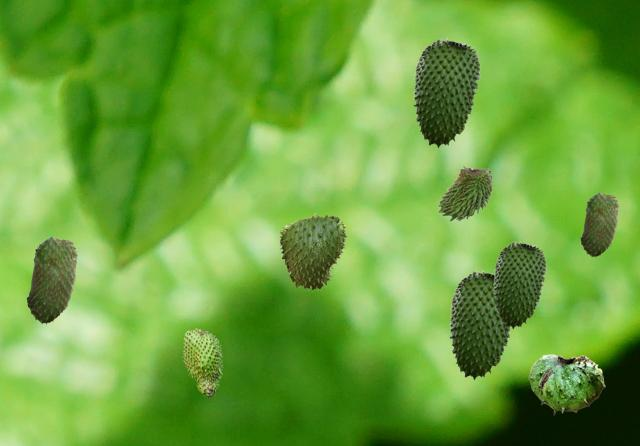guyabano: (413, 38, 479, 147), (449, 270, 511, 379), (279, 213, 347, 291), (528, 354, 604, 414), (493, 241, 545, 328), (26, 236, 77, 323), (437, 165, 492, 220), (182, 328, 222, 397), (580, 192, 618, 256)
